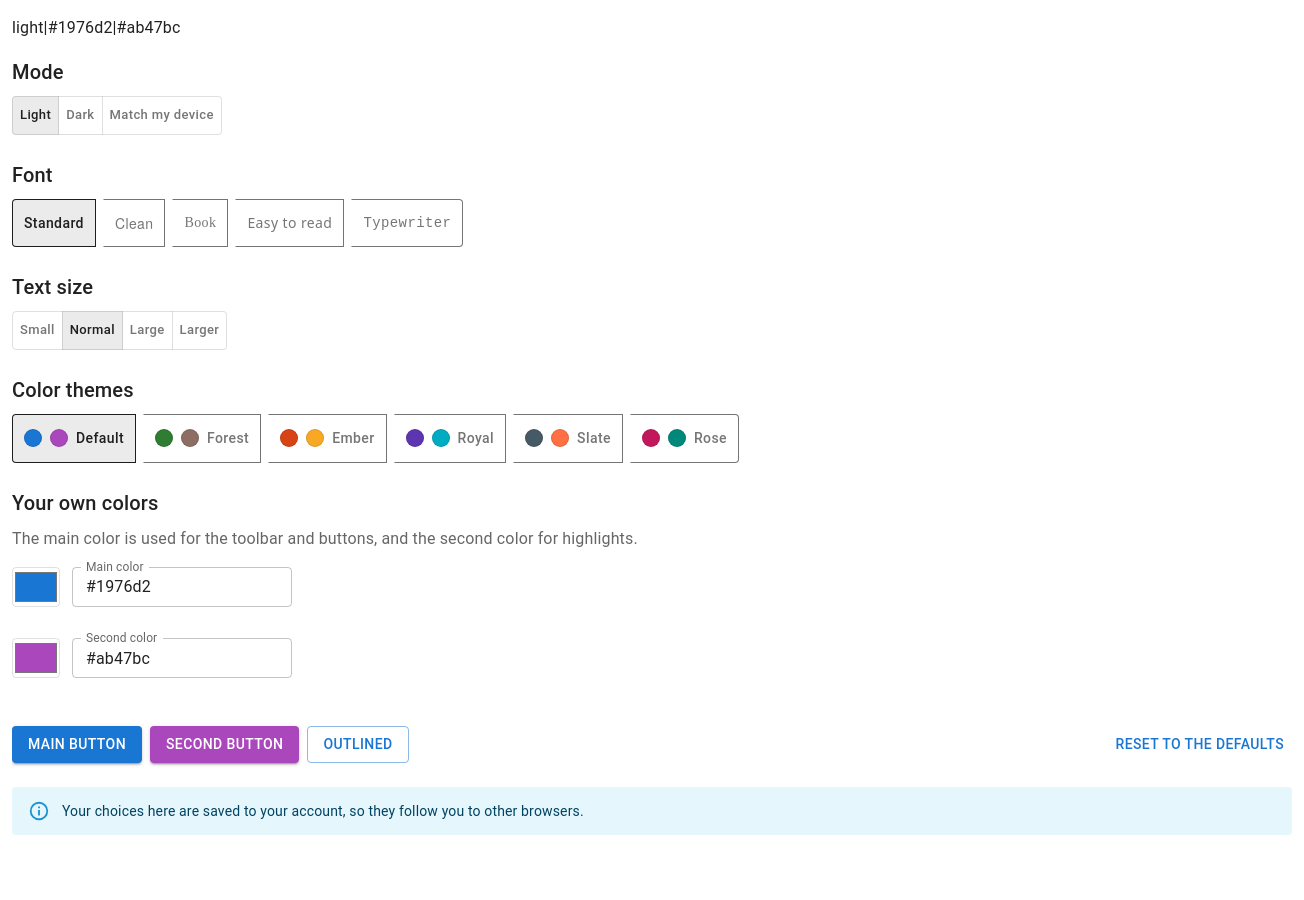
Scenario: your own colors › doesn't take a short code halfway through typing a long one, but does once typing stops
Replace the text in the field labelled "Main color" with "#197" at (182, 586), box left=72, top=566, right=292, bottom=606
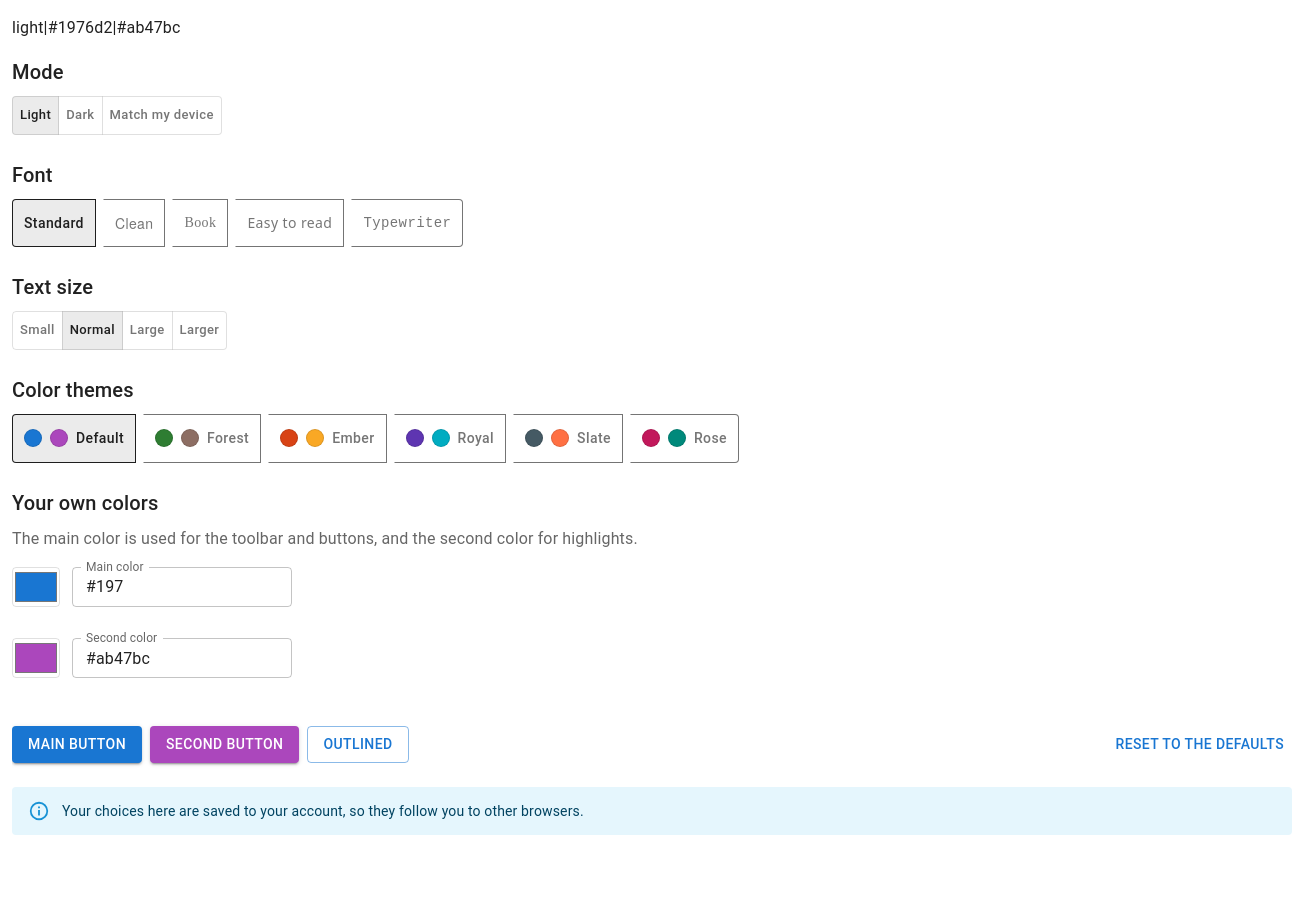
Expected: the text with test id "probe" reads "light|#1976d2|#ab47bc", left=12, top=18, right=44, bottom=37
Leave the field labelled "Main color", box left=72, top=566, right=292, bottom=606
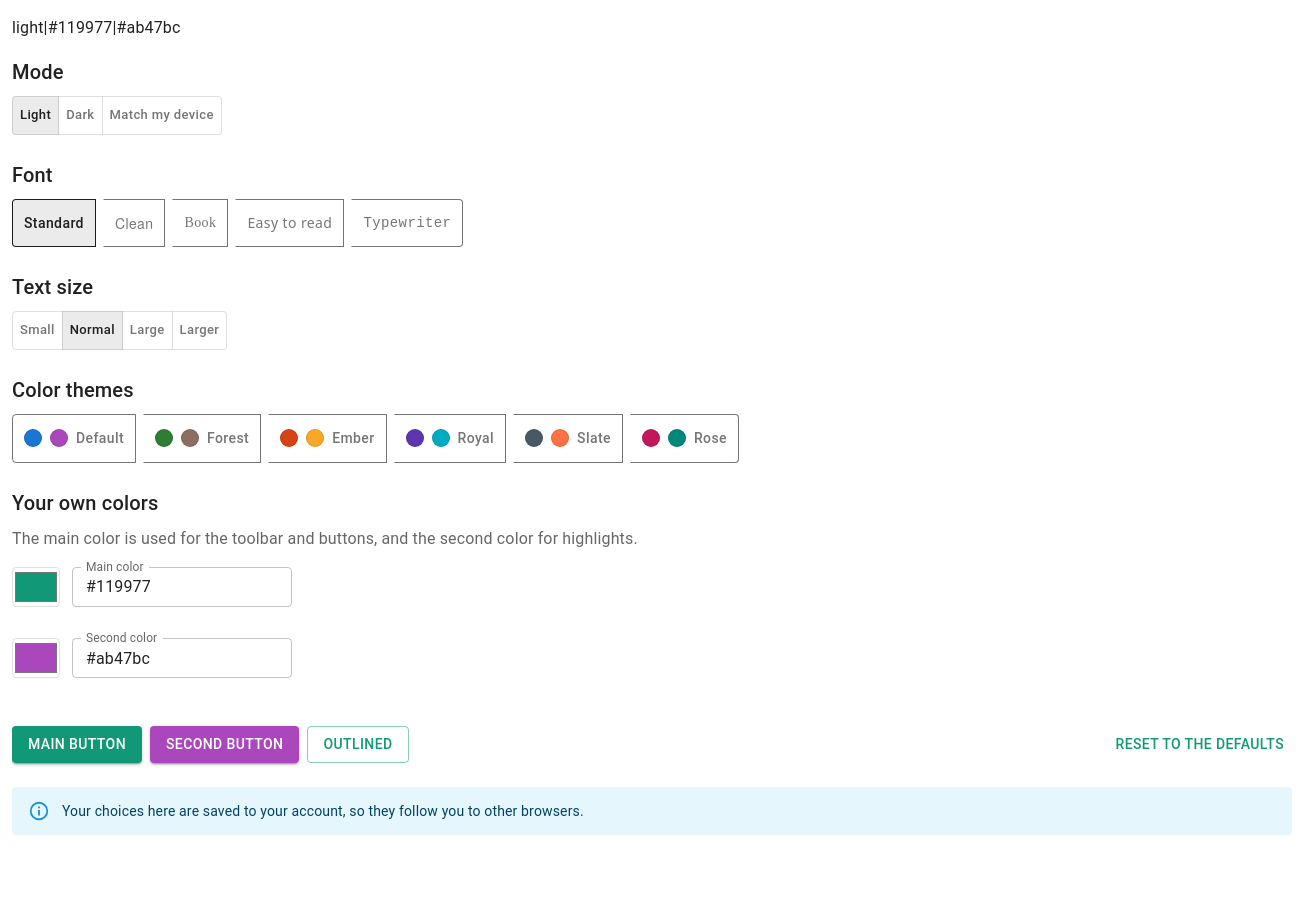
Expected: the text with test id "probe" reads "light|#119977|#ab47bc", left=12, top=18, right=44, bottom=37
Result: the field labelled "Main color" holds "#119977" at left=72, top=566, right=292, bottom=606
